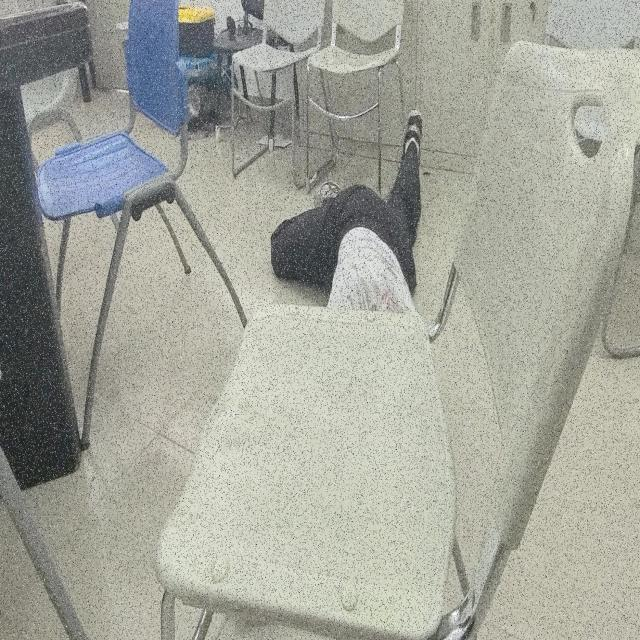fall: (268, 107, 424, 312)
